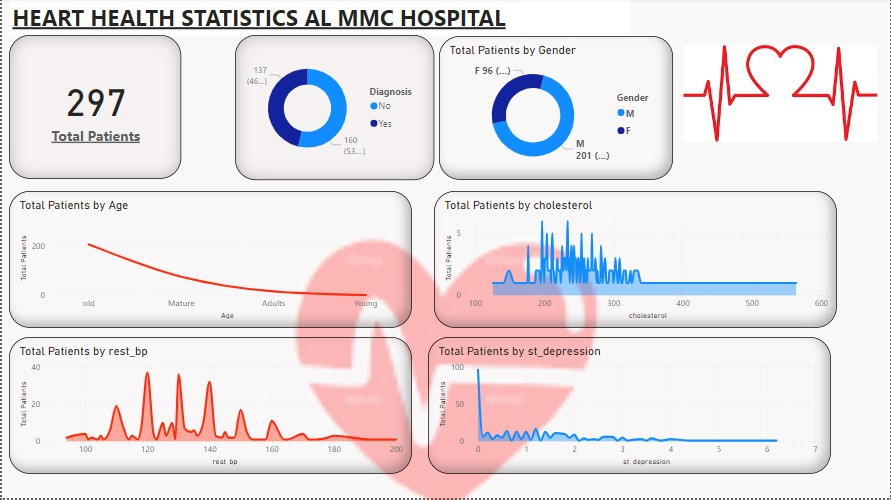

The dashboard page shown, as its layout file describes it:
{"tool":"powerbi","page":{"name":"Page 1","canvas":[1280,720],"ordinal":0},"visuals":[{"type":"textbox","box":[10.1,0,894.2,54.7],"z":0},{"type":"card","fields":{"Values":["heart_data.total patients"]},"box":[9.8,53.8,156.5,202.9],"z":1000},{"type":"donutChart","fields":{"Category":["heart_data.Diagnosis"],"Y":["CountNonNull(heart_data.Diagnosis)"]},"box":[958.4,53.8,287.3,202.9],"z":2000},{"type":"columnChart","fields":{"Category":["heart_data.Age"],"Y":["heart_data.Total Patients"]},"box":[9.8,277.5,265.3,196.8],"z":3000},{"type":"donutChart","fields":{"Y":["heart_data.Total Patients"],"Category":["heart_data.Gender"]},"box":[190.7,47.7,315.4,220],"z":4000},{"type":"scatterChart","fields":{"X":["heart_data.cholesterol"],"Y":["Sum(heart_data.rest_bp)"]},"box":[514.6,47.7,423,220],"z":5000},{"type":"areaChart","fields":{"Y":["heart_data.Total Patients"],"Category":["heart_data.rest_bp"]},"box":[10.1,488.2,580.3,197.3],"z":6000},{"type":"areaChart","fields":{"Y":["heart_data.Total Patients"],"Category":["heart_data.st_depression"]},"box":[613.7,487.7,506.1,198],"z":7000},{"type":"slicer","fields":{"Values":["heart_data.Age"]},"box":[1119.7,282.4,160.1,187],"z":8000},{"type":"slicer","fields":{"Values":["heart_data.Gender"]},"box":[1119.7,485.3,160.1,206.6],"z":9000},{"type":"pivotTable","title":"Statistics of patients","fields":{"Rows":["heart_data.Age"],"Values":["Sum(heart_data.exercise_angina)","CountNonNull(heart_data.Diagnosis)","Avg(heart_data.cholesterol)","Sum(heart_data.rest_ecg)"]},"box":[275,282.4,806.8,187],"z":10000}]}

Visuals, with their boxes in screenshot pixels (x1, y1, x2, y2), scaled from the page's 1280x720 canvas onto the 891x500 screenshot:
textbox: [7, 0, 629, 38]
card - heart_data.total patients: [7, 37, 116, 178]
donutChart - heart_data.Diagnosis x CountNonNull(heart_data.Diagnosis): [667, 37, 867, 178]
columnChart - heart_data.Age x heart_data.Total Patients: [7, 193, 191, 329]
donutChart - heart_data.Total Patients x heart_data.Gender: [133, 33, 352, 186]
scatterChart - heart_data.cholesterol x Sum(heart_data.rest_bp): [358, 33, 653, 186]
areaChart - heart_data.Total Patients x heart_data.rest_bp: [7, 339, 411, 476]
areaChart - heart_data.Total Patients x heart_data.st_depression: [427, 339, 779, 476]
slicer - heart_data.Age: [779, 196, 890, 326]
slicer - heart_data.Gender: [779, 337, 890, 480]
"Statistics of patients" pivotTable: [191, 196, 753, 326]
